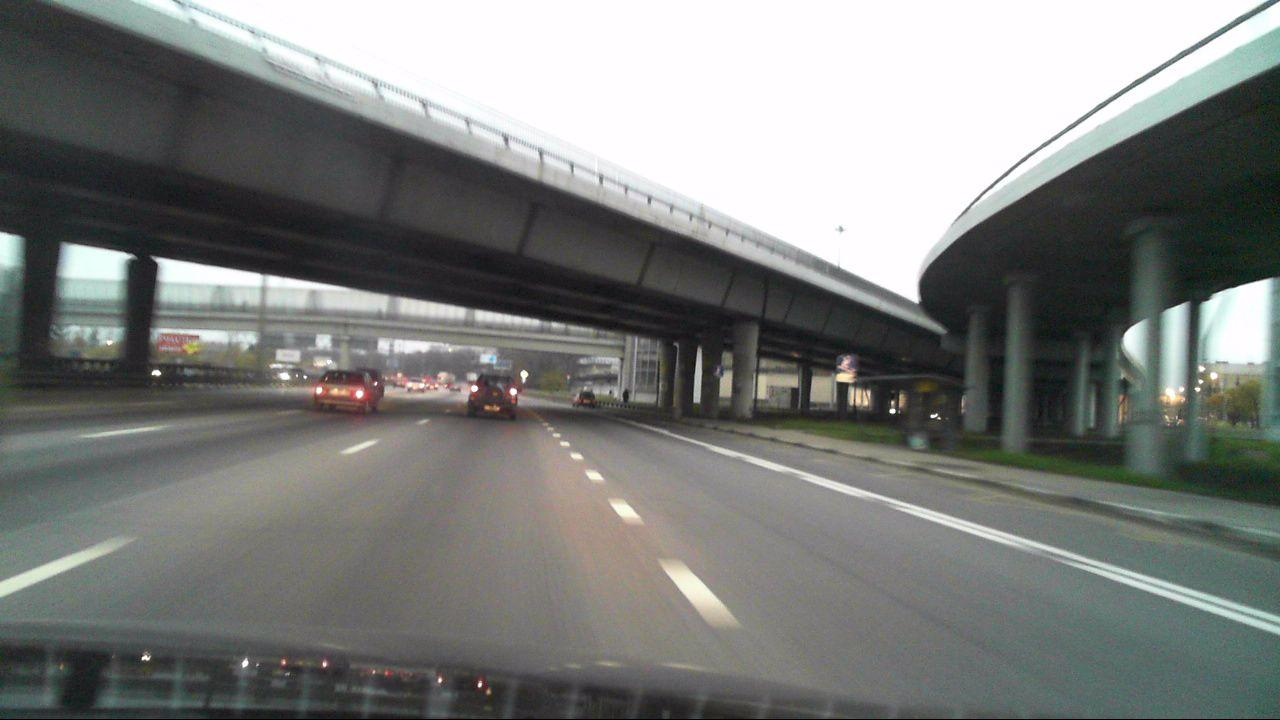6_7: (837, 353, 857, 373)
